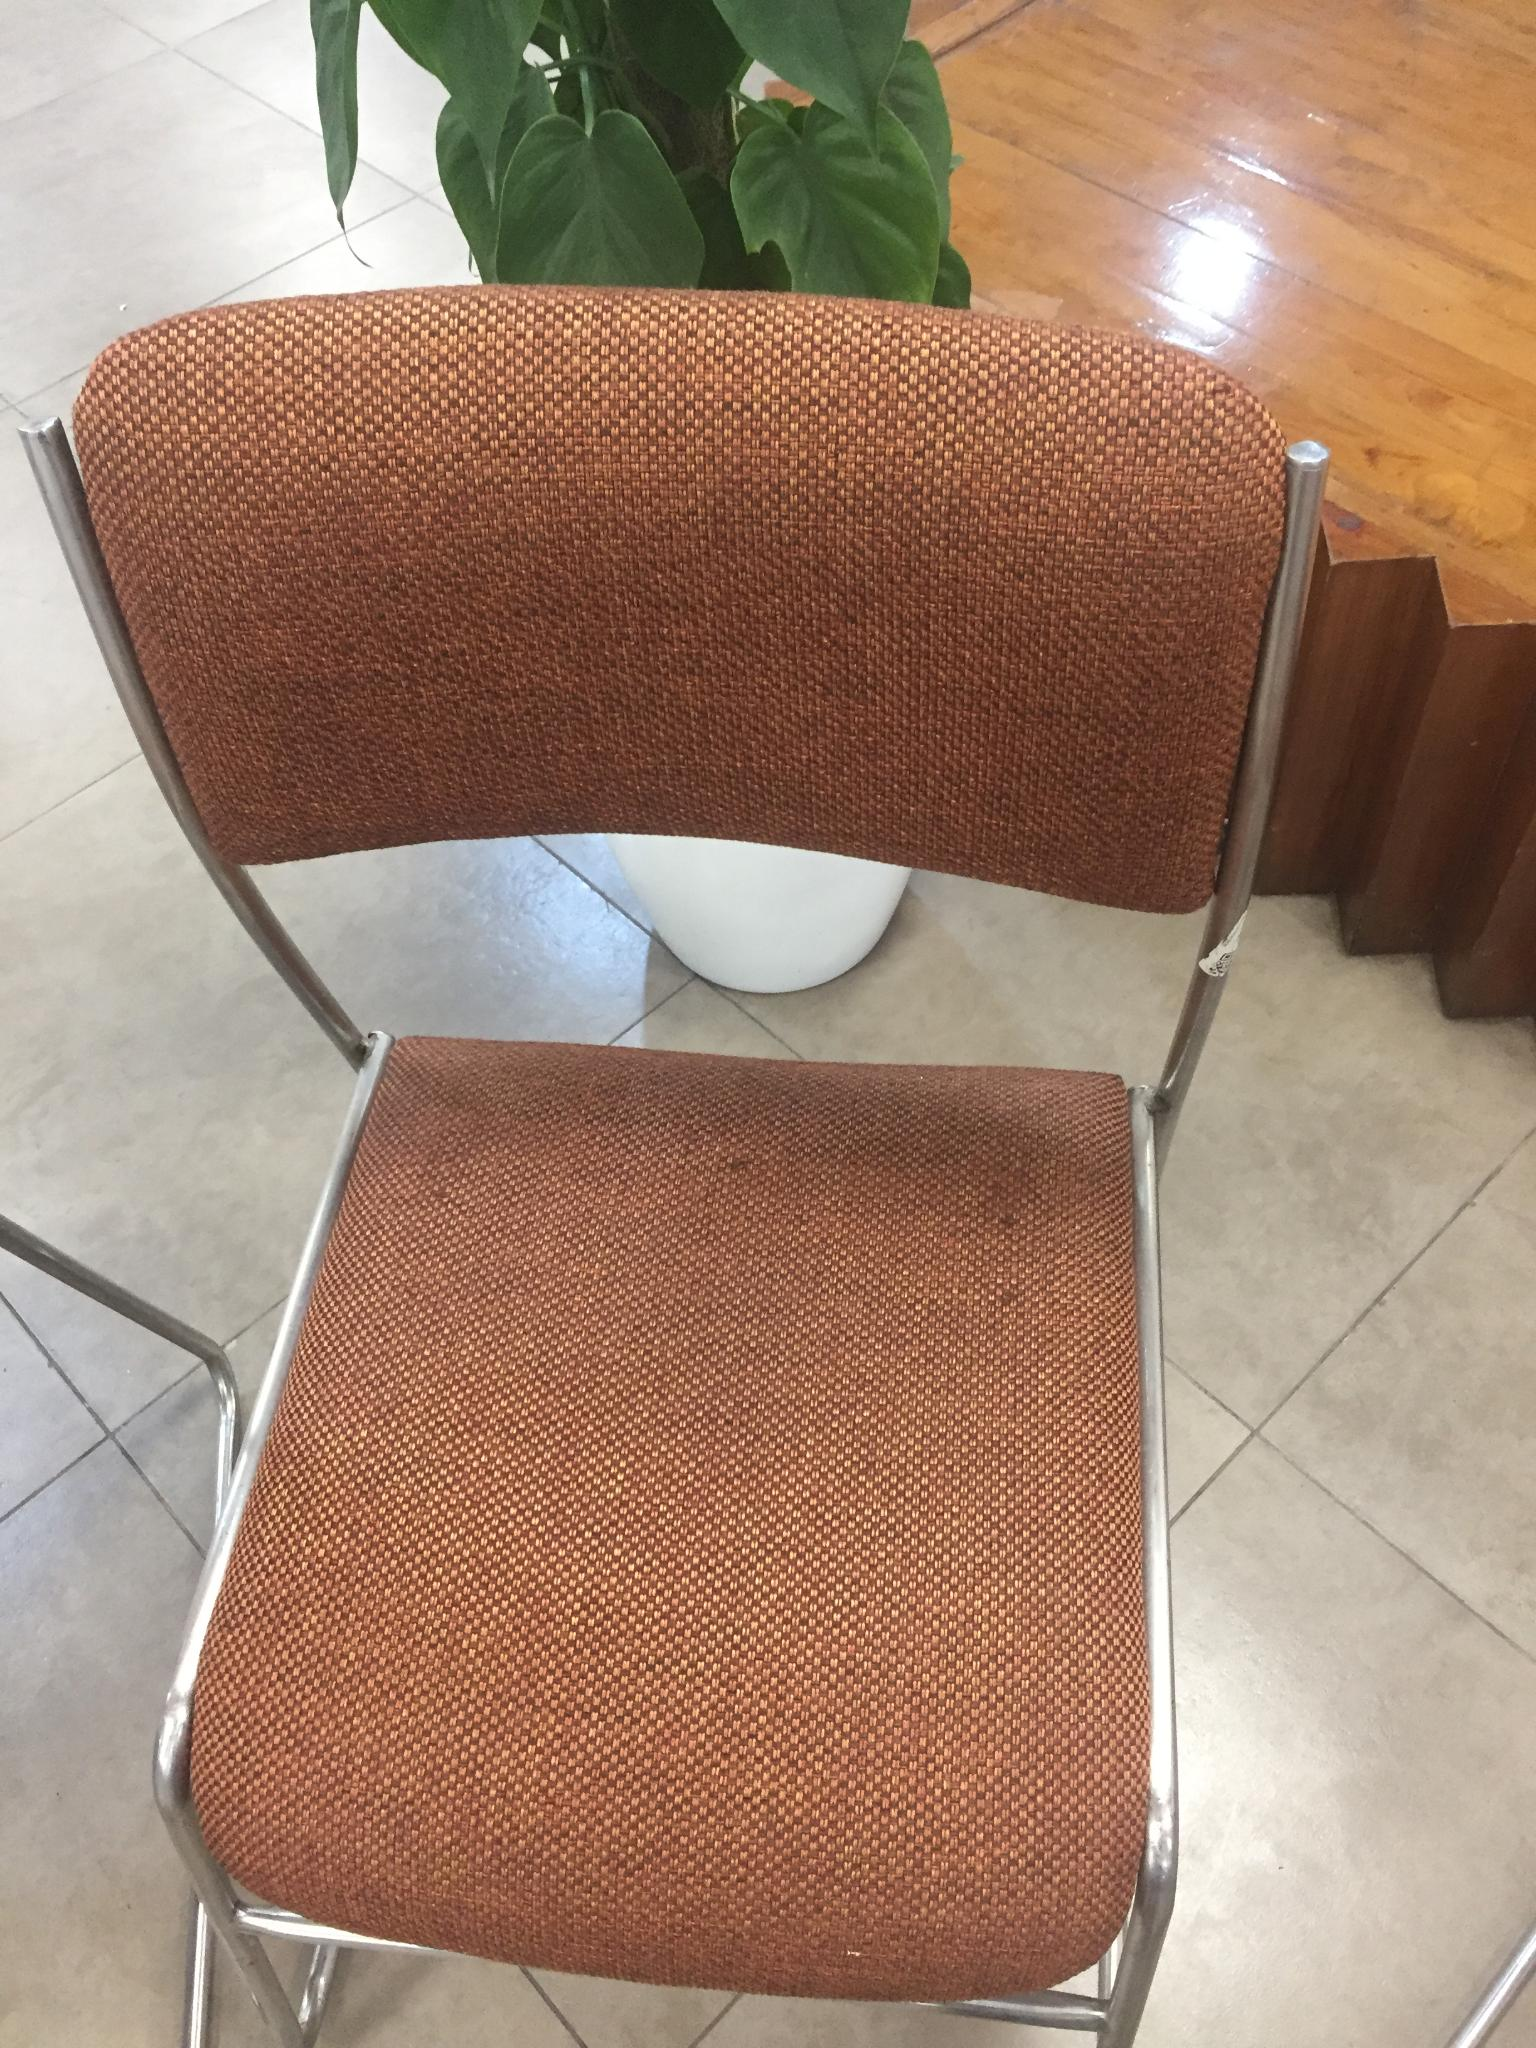chair: (18, 281, 1331, 2043)
